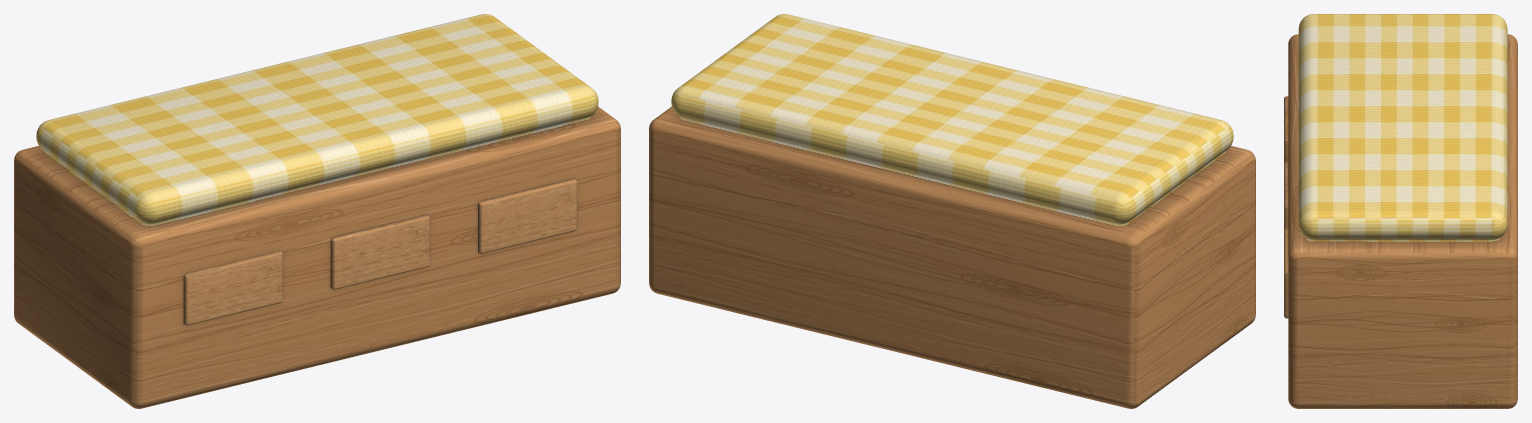
File: window_box.glb
3 renders of one model, left to right at view 1: azimuth 30°, elevation 25°; view 2: azimuth 150°, elevation 25°; view 3: azimuth 270°, elevation 25°, orthographic. The views are drawn at different scales.
Parts seen in each view (by area): view 1: window_box; view 2: window_box; view 3: window_box.
Part boxes in pixels (box(x1,y1,x2,y2)): window_box: box(14, 14, 620, 408); window_box: box(649, 14, 1255, 408); window_box: box(1284, 14, 1517, 408).
Bounding box in the file's own units: 1 × 0.4 × 0.448.
1 material, 1 textured.
